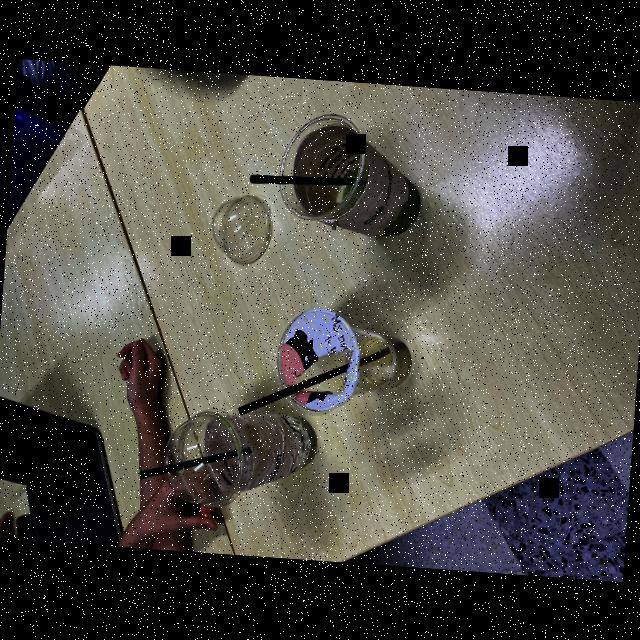plastic_cup: (270, 105, 426, 246), (269, 300, 417, 421), (171, 398, 320, 509)
plastic_cup_lid: (158, 408, 242, 512), (198, 189, 274, 269)
straw: (235, 340, 404, 415), (136, 443, 252, 481), (248, 174, 357, 188)
